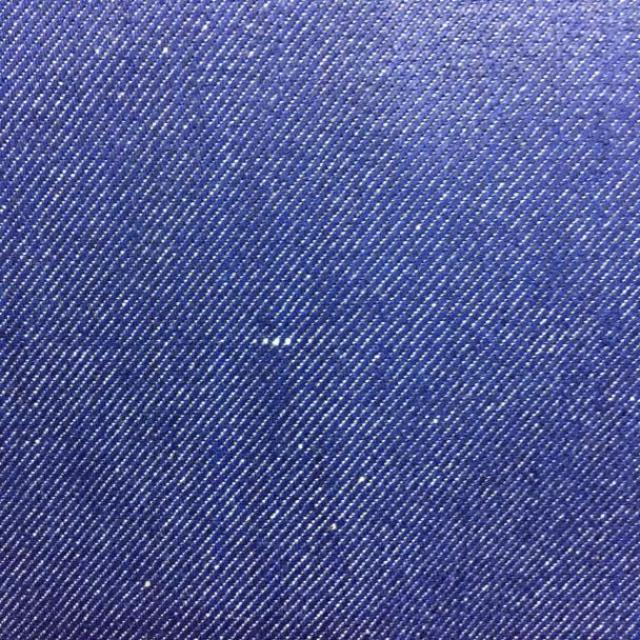Knot: (255, 337, 293, 348)
